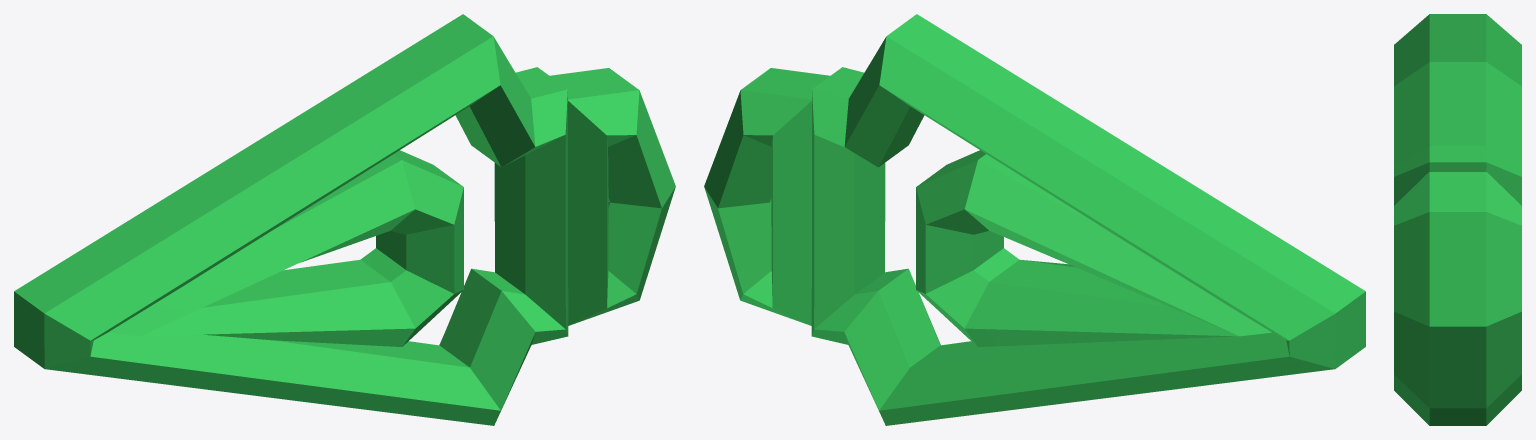
File: pine2.glb
3 views of the same model, side by side, from view 1: azimuth 30°, elevation 25°; view 2: azimuth 150°, elevation 25°; view 3: azimuth 270°, elevation 25° (orthographic). The views are drawn at different scales.
Parts seen in each view (by area): view 1: root.002; view 2: root.002; view 3: root.002.
Boxes of the visible parts, x1,y1,x2,y2 form: root.002: (14, 14, 675, 425); root.002: (704, 14, 1365, 425); root.002: (1394, 14, 1521, 425).
Bounding box in the file's own units: 2.87 × 1.7 × 0.5398.
